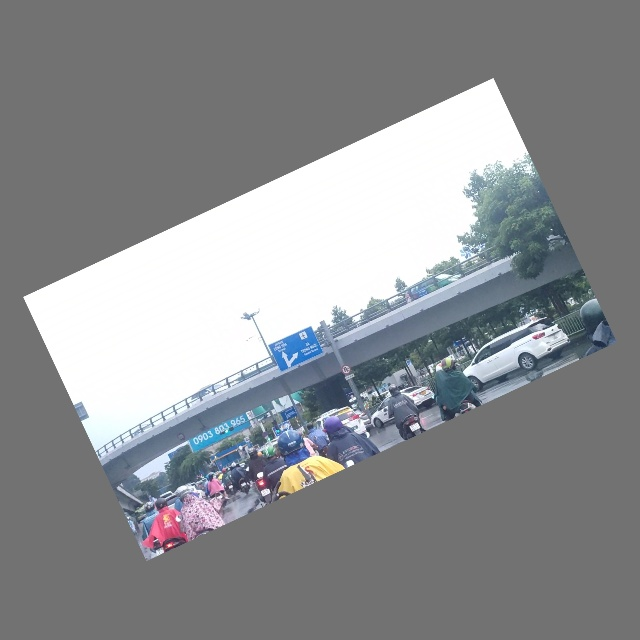P.124b1: (339, 363, 353, 377)
